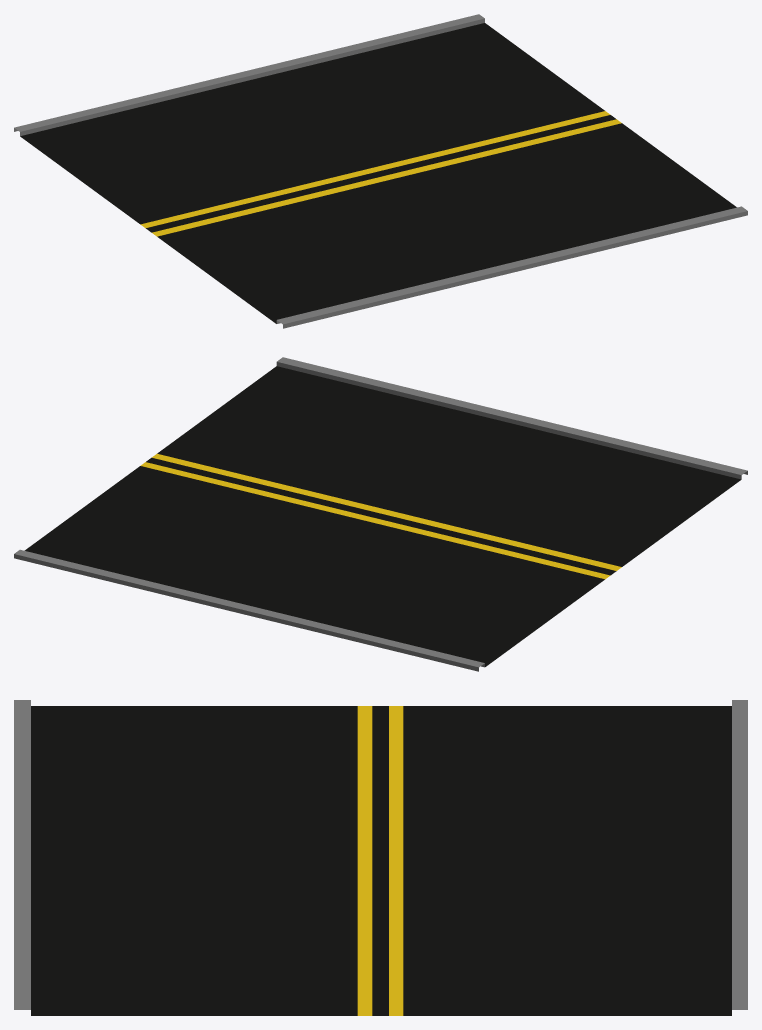
The model's file is Road_Straight.fbx.
The picture shows the model from 3 angles, top to bottom: view 1: azimuth 30°, elevation 25°; view 2: azimuth 150°, elevation 25°; view 3: azimuth 270°, elevation 25°; orthographic projection. The views are drawn at different scales.
Parts seen in each view (by area): view 1: Road; view 2: Road; view 3: Road.
Part boxes in pixels (x1,y1,x2,y2): Road: (14,14,747,328); Road: (14,357,747,671); Road: (14,700,747,1015).
Size of the model in its own units: 6 by 0.0538 by 6.01.
